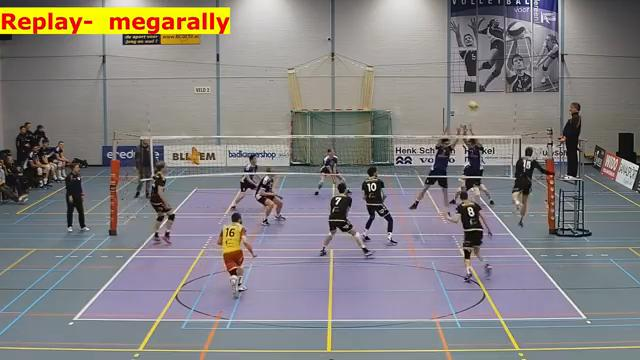Attack: (501, 142, 559, 227)
Block: (409, 124, 459, 215), (459, 124, 485, 208)
Player: (446, 191, 491, 281), (320, 183, 373, 257), (217, 213, 255, 297), (362, 167, 396, 245), (150, 161, 174, 243), (255, 167, 285, 225), (230, 154, 257, 209), (315, 148, 344, 194)
ball: (468, 100, 479, 111)
